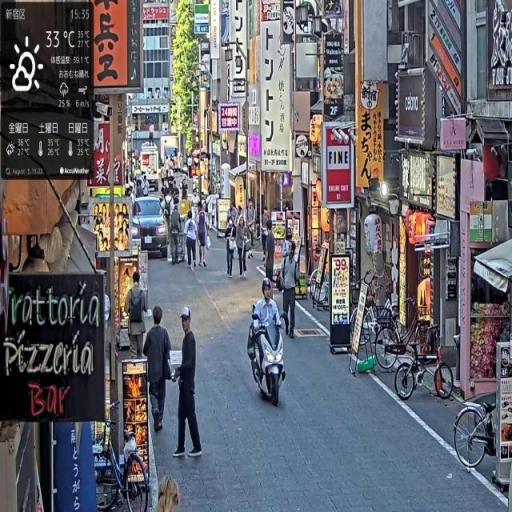person: (172, 308, 203, 461), (252, 277, 287, 405), (143, 307, 174, 435), (125, 272, 151, 364), (282, 240, 302, 340), (197, 208, 211, 272), (156, 476, 180, 512), (185, 212, 199, 271)
